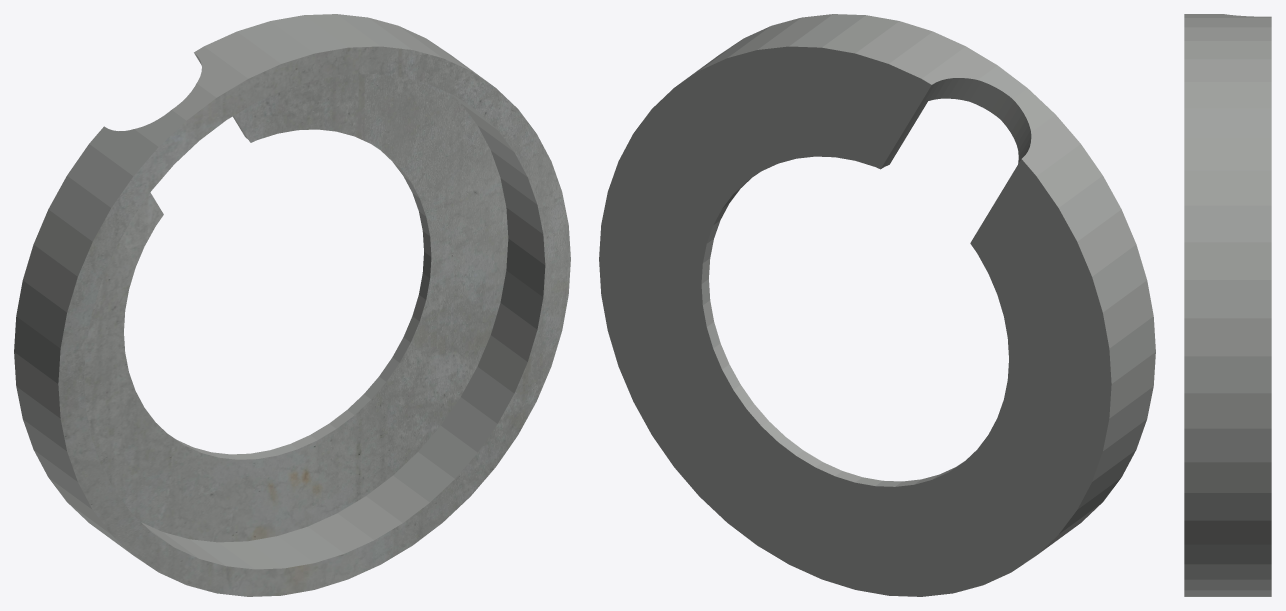
File: pool_011.obj
3 renders of one model, left to right at view 1: azimuth 30°, elevation 25°; view 2: azimuth 150°, elevation 25°; view 3: azimuth 270°, elevation 25°, orthographic.
Bounding box in the file's own units: 20 × 20 × 3.
